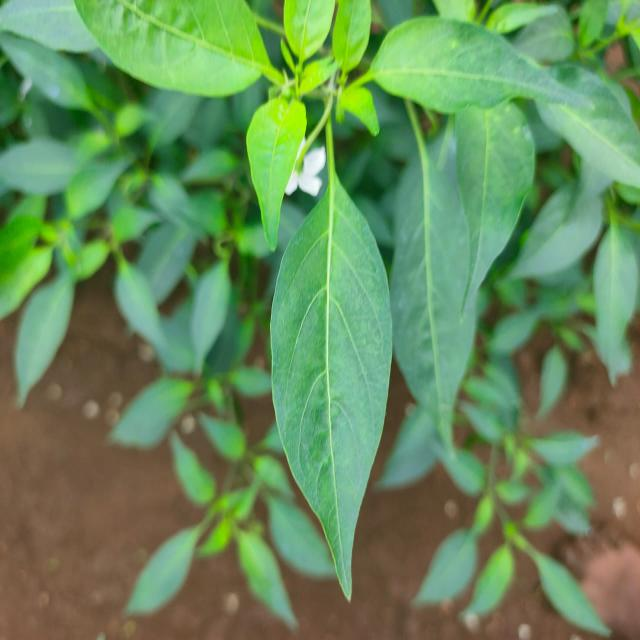Mosaic_virus: (0, 5, 640, 535)
